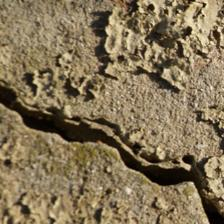Crack: (3, 43, 216, 178)
